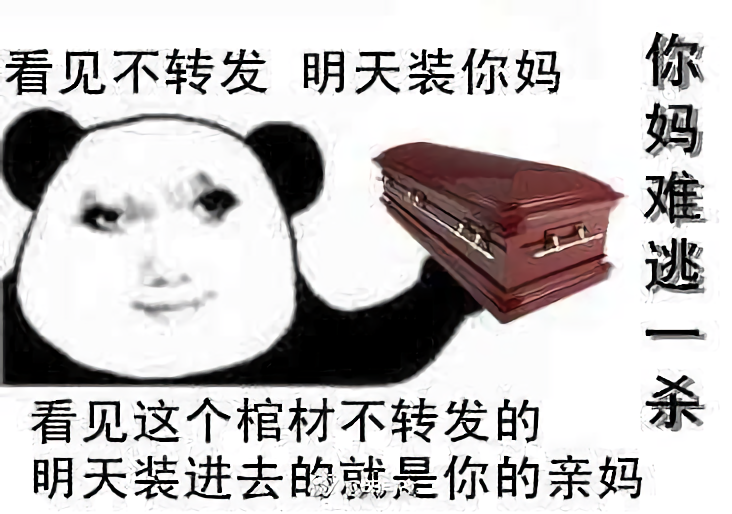dragon: (71, 171, 251, 335)
